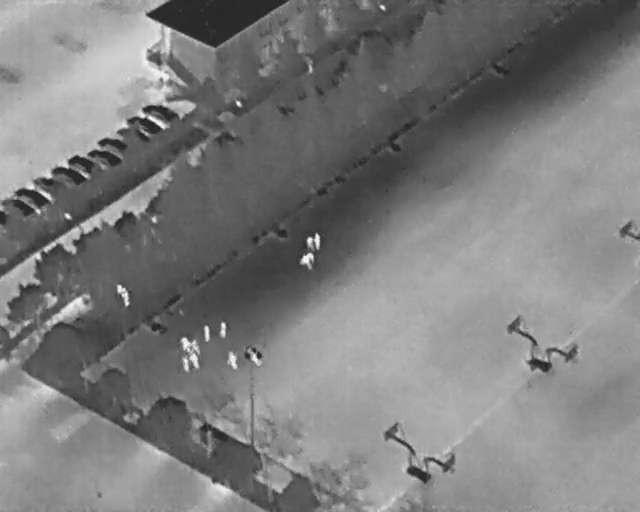Car: (124, 105, 167, 145), (138, 93, 182, 132), (11, 180, 54, 216), (47, 159, 89, 195), (112, 118, 152, 153), (94, 127, 133, 162), (83, 139, 121, 172), (63, 149, 101, 182), (29, 170, 66, 201), (0, 192, 34, 220), (0, 210, 8, 227)
Person: (221, 348, 241, 372), (298, 253, 315, 272), (177, 335, 193, 354), (187, 353, 203, 371), (202, 322, 211, 343), (190, 339, 201, 355), (305, 234, 315, 250), (313, 232, 321, 251), (219, 321, 227, 339), (181, 355, 189, 372)
